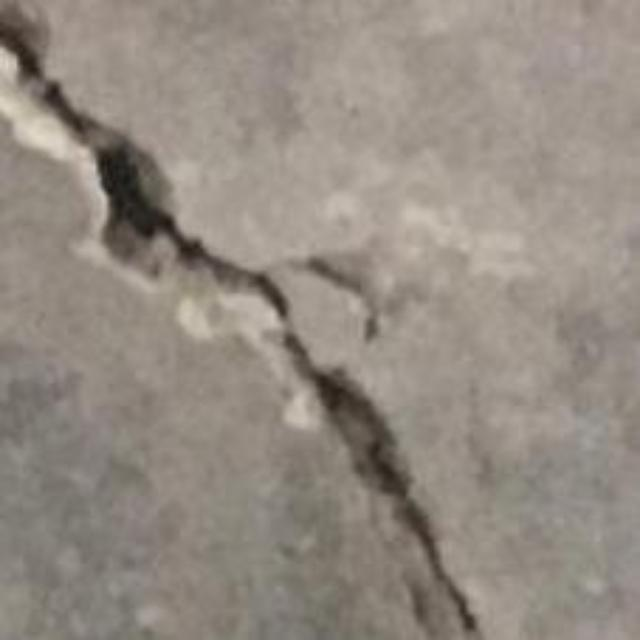crack: (0, 0, 484, 639)
